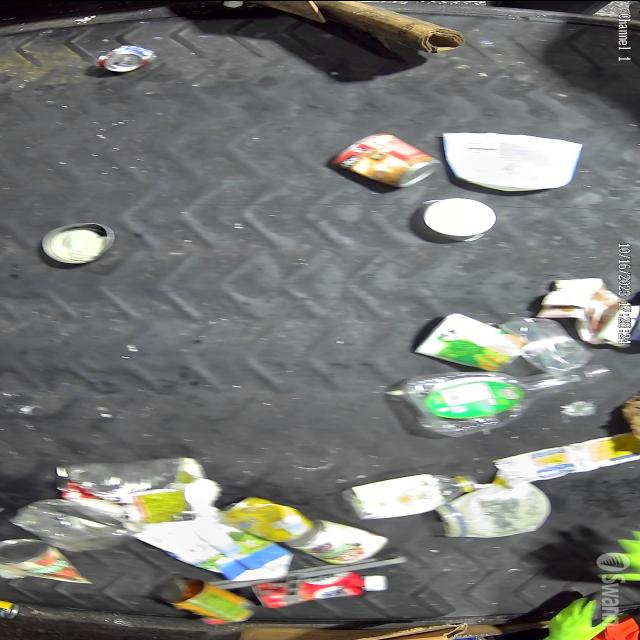can: (322, 132, 454, 190), (408, 308, 527, 372), (154, 575, 250, 624), (41, 214, 118, 272), (222, 493, 311, 543), (293, 516, 391, 561)
